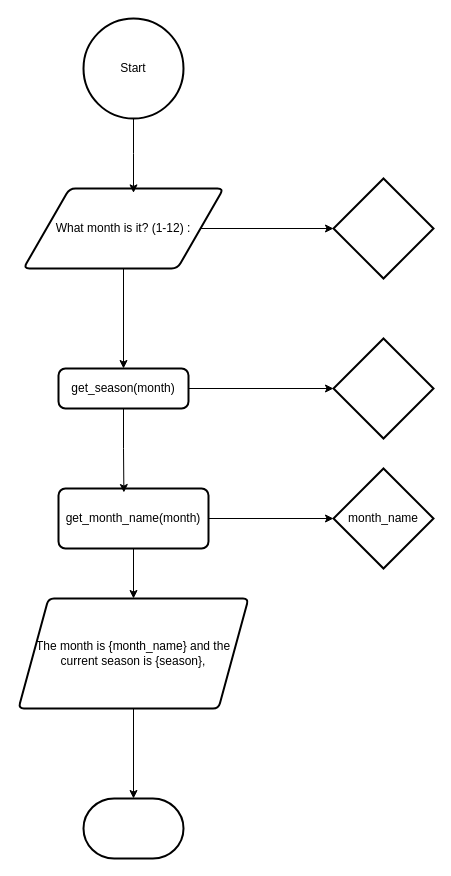
Some shapes in this 451 by 876 pixel diagram are drawn without their labels. The shapes that lost their labels are listed below. From the top down, each one's centre as x and y in pixels, then its label:
At point 383,228: "Month".
At point 383,388: "season".
At point 133,828: "End".
